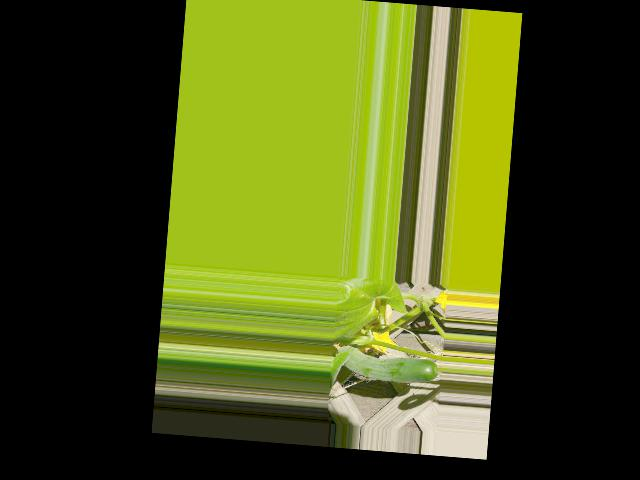cucumber: (330, 344, 438, 385)
